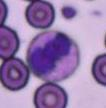N: (26, 30, 80, 81)
